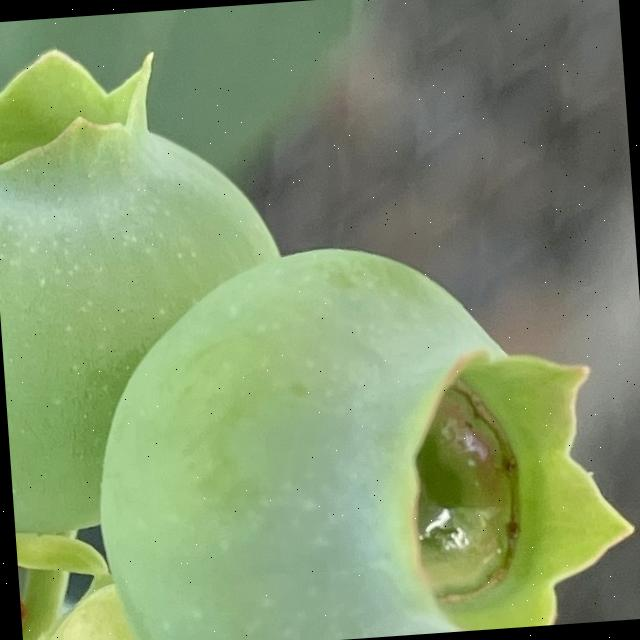Blueberries: (74, 227, 637, 640), (0, 36, 299, 548)
